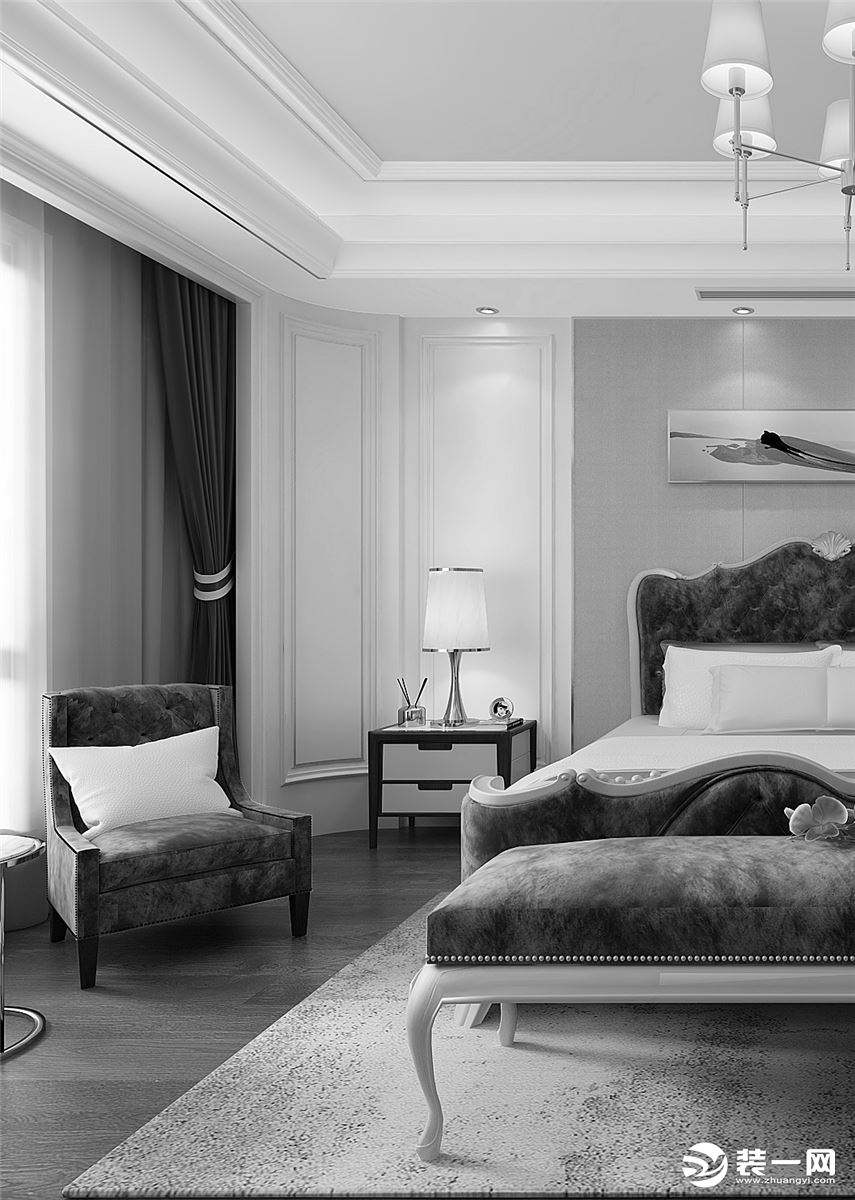床: (434, 821, 855, 1052)
枕头: (474, 744, 841, 859), (43, 726, 221, 846)
灯: (696, 23, 855, 277), (412, 566, 496, 737), (729, 306, 760, 324), (470, 307, 498, 324)
